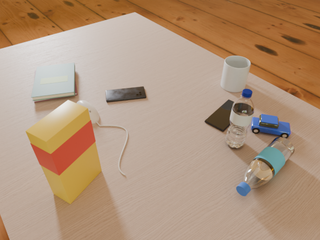book: (31, 63, 75, 101)
bottle: (236, 137, 294, 196), (225, 89, 254, 149)
box: (26, 100, 102, 204)
cup: (221, 56, 251, 92)
mouse: (77, 100, 99, 124)
phone: (205, 100, 234, 131), (106, 87, 146, 102)
toy_car: (251, 114, 291, 138)
